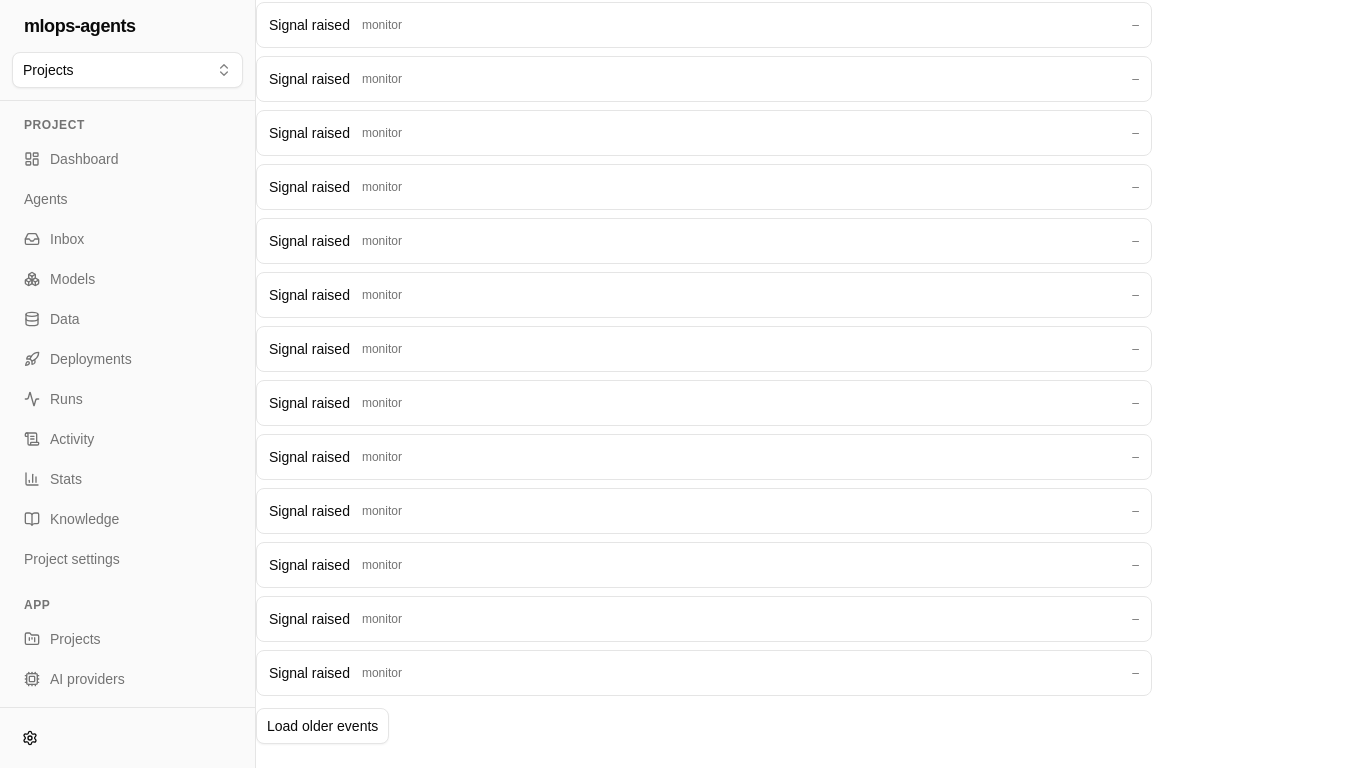
Test: IncidentPage › loads the timeline's next page with the last seq as the cursor
(page scrolled)
Click the button "Load older events".
click(323, 726)  # box [256,708,389,744]
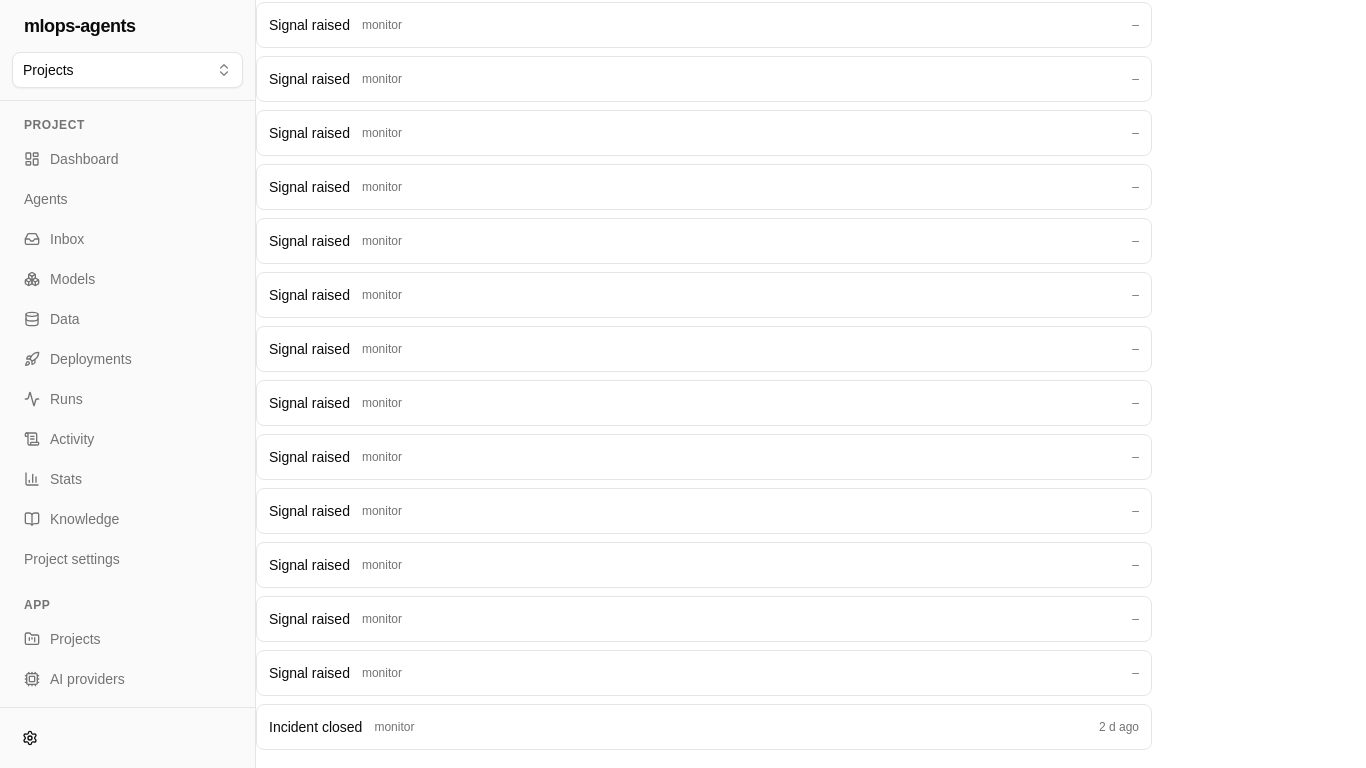
Now the text "Incident closed" is shown, box [269,717,362,737]
Now the button "Load older events" is gone
